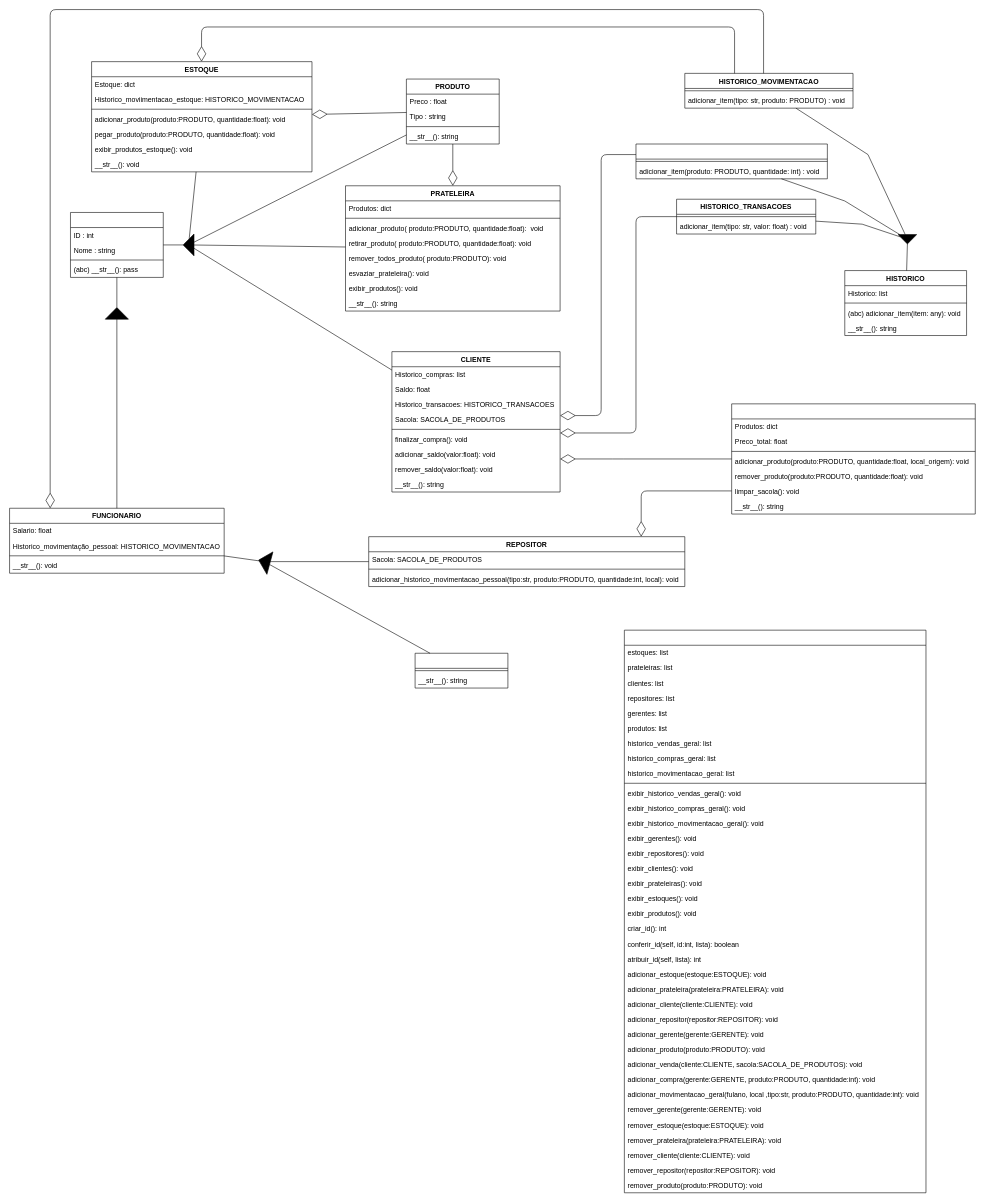
The diagram is 985 pixels wide and 1202 high, and some of its shapes have lost their labels. Each missing label, with the box of its shape:
GERENTE: (415, 653, 508, 688)
HISTORICO_COMPRAS: (635, 143, 827, 179)
IDENTIFICADOR: (70, 212, 163, 277)
SACOLA_DE_PRODUTOS: (731, 403, 975, 514)
SISTEMA: (624, 630, 926, 1193)
